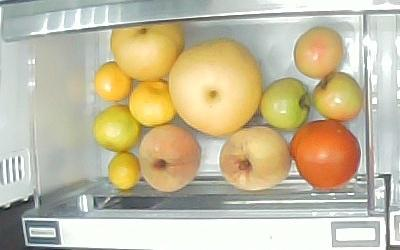peach: (219, 126, 290, 191), (138, 124, 201, 192)
pear: (170, 39, 263, 134), (111, 22, 185, 82)
tangerine: (93, 103, 140, 153), (129, 79, 175, 127), (95, 61, 131, 102), (108, 151, 141, 189)
tomato: (291, 119, 362, 192), (293, 26, 344, 79), (260, 76, 309, 131), (312, 71, 363, 120)
